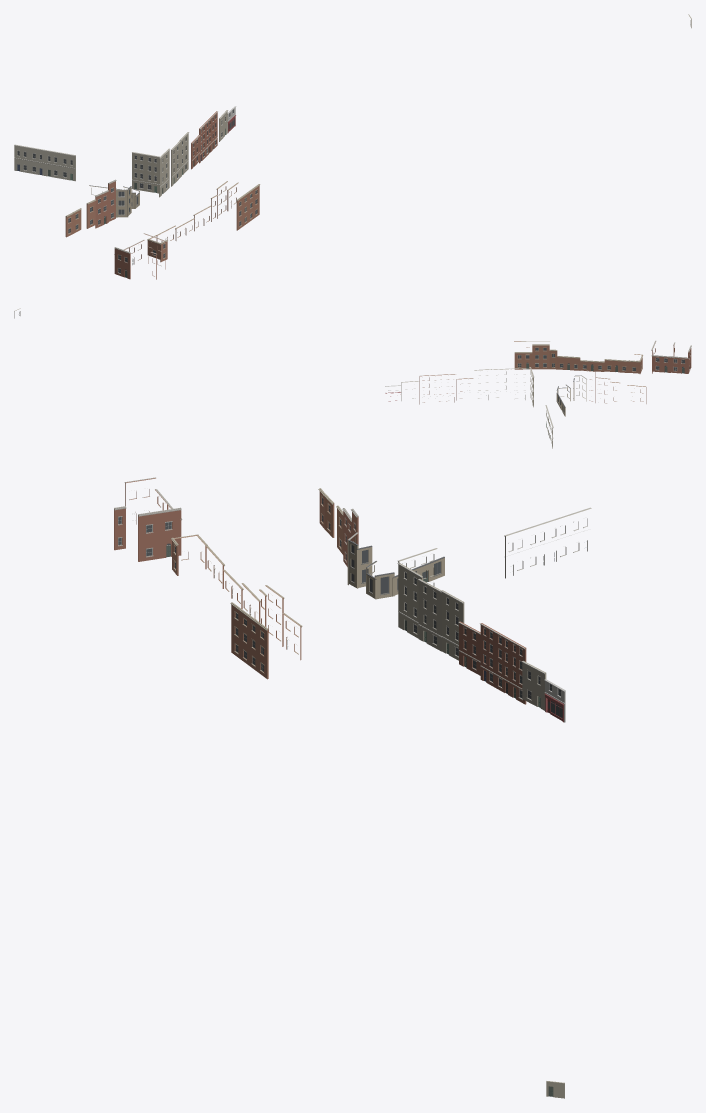
3 views of the same model, one above another, from view 1: azimuth 30°, elevation 25°; view 2: azimuth 150°, elevation 25°; view 3: azimuth 270°, elevation 25° (orthographic). The views are drawn at different scales.
Parts seen in each view (by area): view 1: f:way/175420011, f:way/136607941, f:way/136604662, f:way/136605809, f:way/136604661, f:way/136607942, f:way/136607944, f:way/136604664, f:way/136605785; view 2: f:way/136604664, f:way/136604662, f:way/136604661, f:way/136605785; view 3: f:way/136604661, f:way/136607942, f:way/136607944, f:way/136604662, f:way/136605785, f:way/136607941, f:way/136604664, f:way/136607947, f:way/136607943.
Part boxes in pixels (x1,y1,x2,y2): f:way/175420011: (14, 144, 75, 181); f:way/136607941: (132, 148, 169, 197); f:way/136604662: (216, 181, 260, 230); f:way/136605809: (95, 179, 116, 228); f:way/136604661: (114, 233, 165, 279); f:way/136607942: (171, 132, 189, 186); f:way/136607944: (199, 111, 217, 163); f:way/136604664: (147, 195, 217, 262); f:way/136605785: (89, 185, 139, 217); f:way/136604664: (549, 349, 643, 373); f:way/136604662: (514, 341, 549, 369); f:way/136604661: (651, 340, 691, 373); f:way/136605785: (556, 375, 586, 416); f:way/136604661: (114, 477, 182, 561); f:way/136607942: (418, 579, 464, 660); f:way/136607944: (480, 623, 526, 704); f:way/136604662: (230, 585, 302, 679); f:way/136605785: (347, 532, 444, 599); f:way/136607941: (397, 548, 437, 638); f:way/136604664: (171, 534, 267, 626); f:way/136607947: (458, 621, 480, 675); f:way/136607943: (521, 661, 546, 710).
Bounding box in the file's own units: 242 × 14.92 × 87.3.
